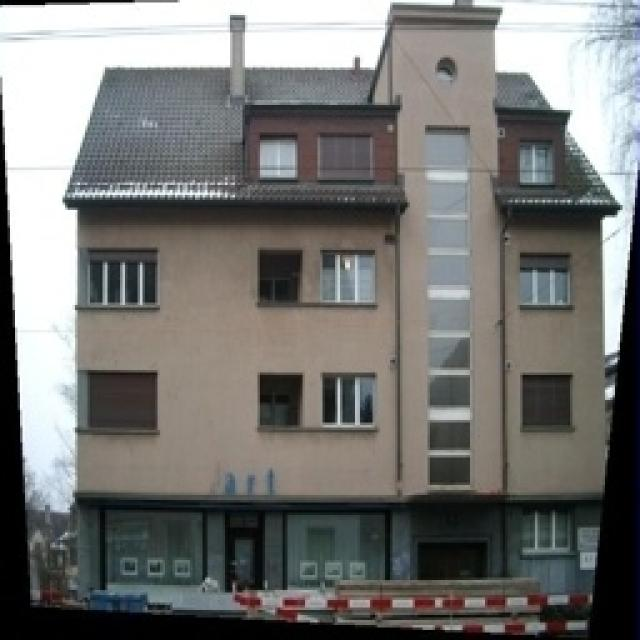building: (80, 5, 612, 640)
